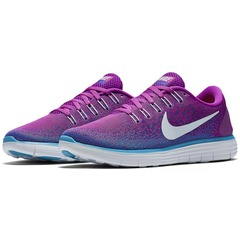nike: (160, 109, 221, 141)
